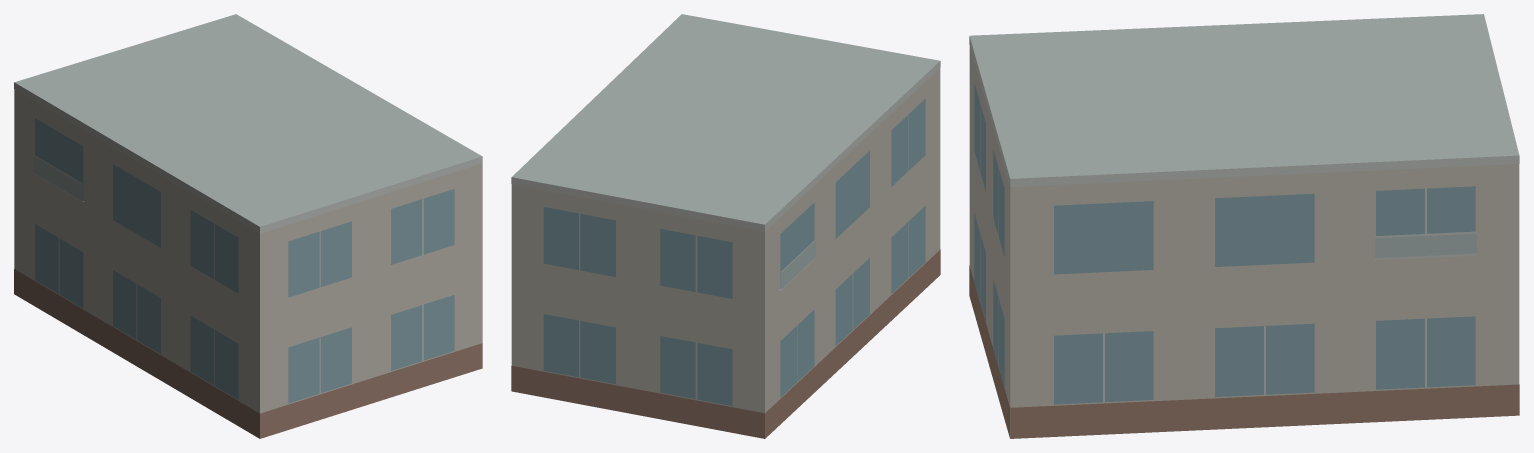
Rendered from survey-upis-32637575.glb.
3 views of the same model, side by side, from view 1: azimuth 30°, elevation 25°; view 2: azimuth 150°, elevation 25°; view 3: azimuth 270°, elevation 25° (orthographic). The views are drawn at different scales.
Parts seen in each view (by area): view 1: survey-upis-32637575.tmp; view 2: survey-upis-32637575.tmp; view 3: survey-upis-32637575.tmp.
Boxes of the visible parts, box(x1,y1,x2,y2) form: survey-upis-32637575.tmp: box(14, 14, 482, 438); survey-upis-32637575.tmp: box(511, 14, 940, 438); survey-upis-32637575.tmp: box(969, 14, 1519, 438).
Size of the model in its own units: 10.34 by 7.6 by 14.58.
